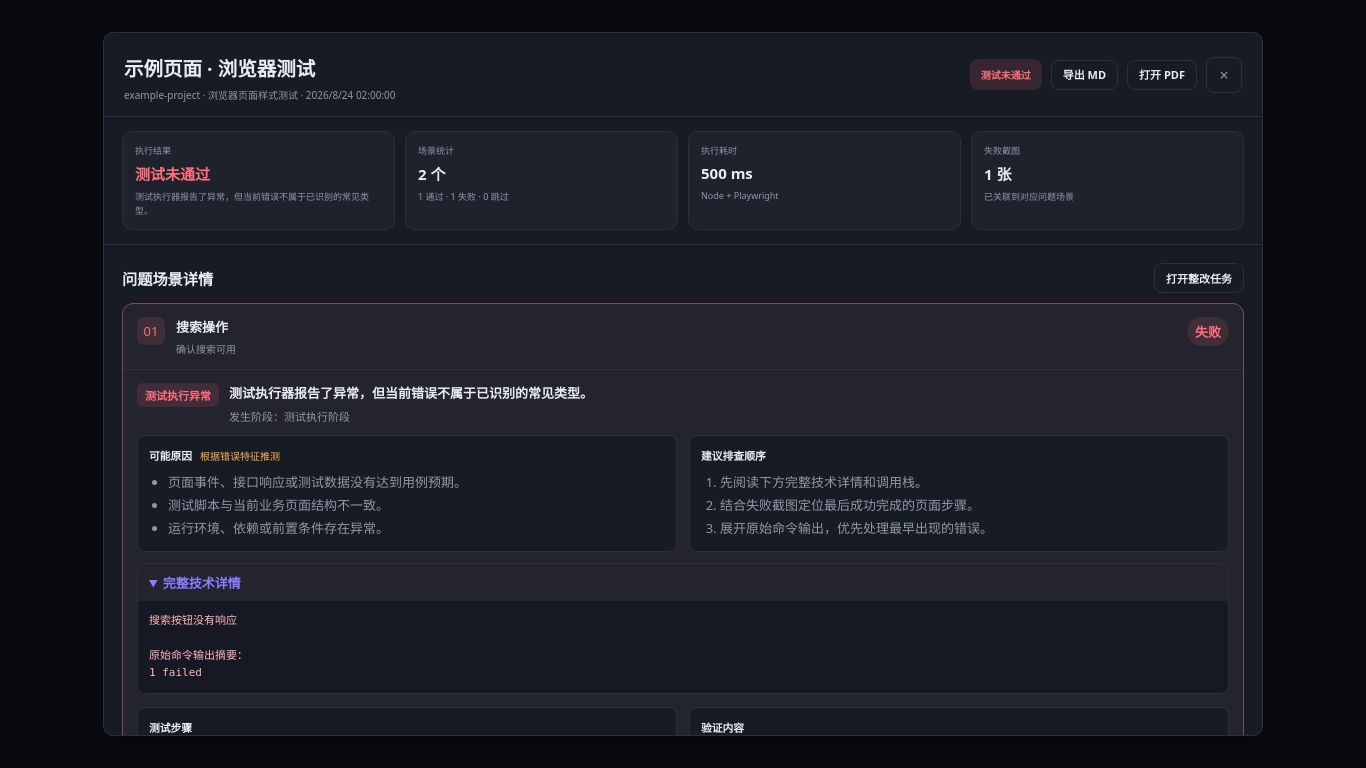
TestReportDialog › PDF 文件被移动后打开失败会恢复为重新导出
Click the button with test id "pdf-action": (1162, 74) [1127, 60, 1197, 90]
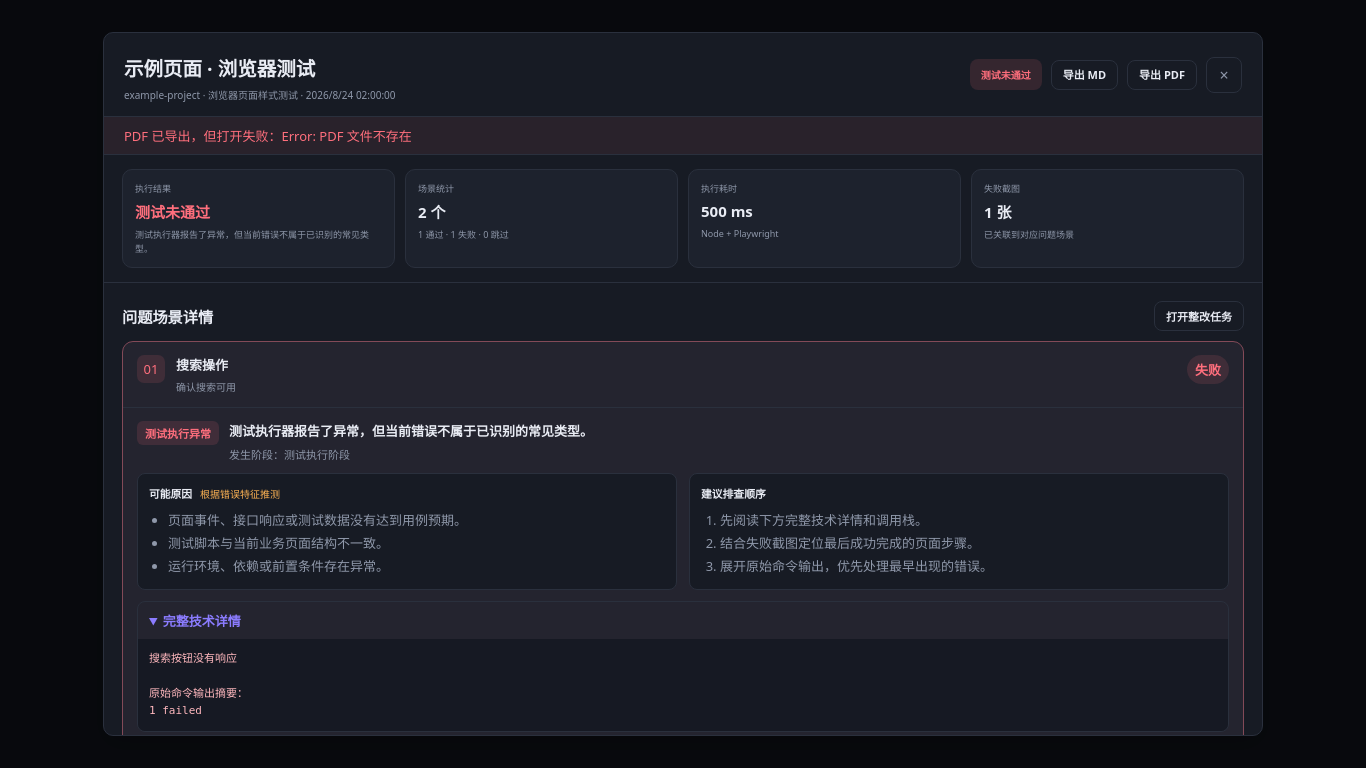
expect the text "PDF 已导出，但打开失败" is shown: met, box [124, 127, 412, 145]
expect the button with test id "pdf-action" reads "导出 PDF": met, box [1127, 60, 1197, 90]
